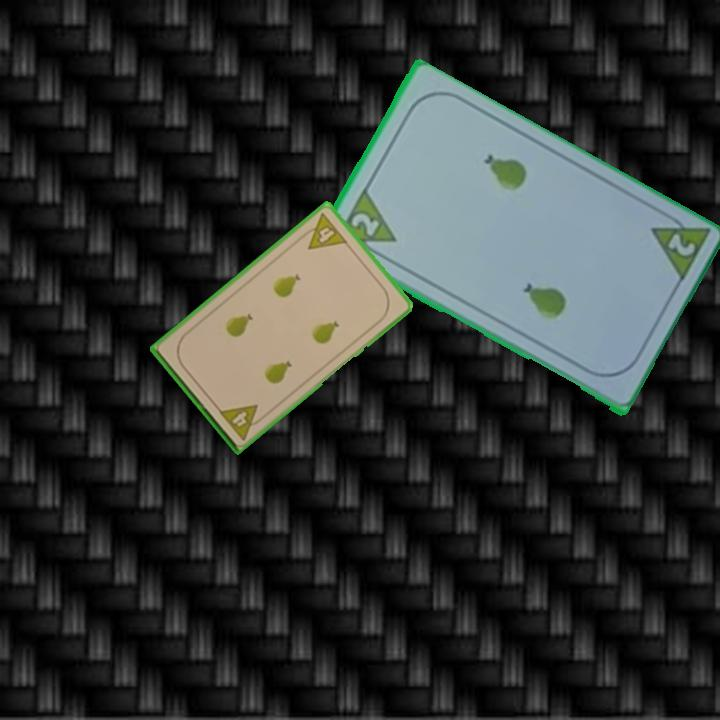2p: (646, 206, 712, 288), (347, 209, 382, 240)
4p: (296, 209, 350, 252), (215, 400, 268, 443)
